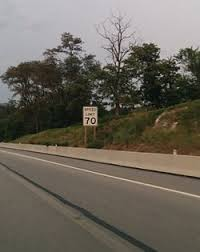speedLimit70: (83, 104, 98, 127)
